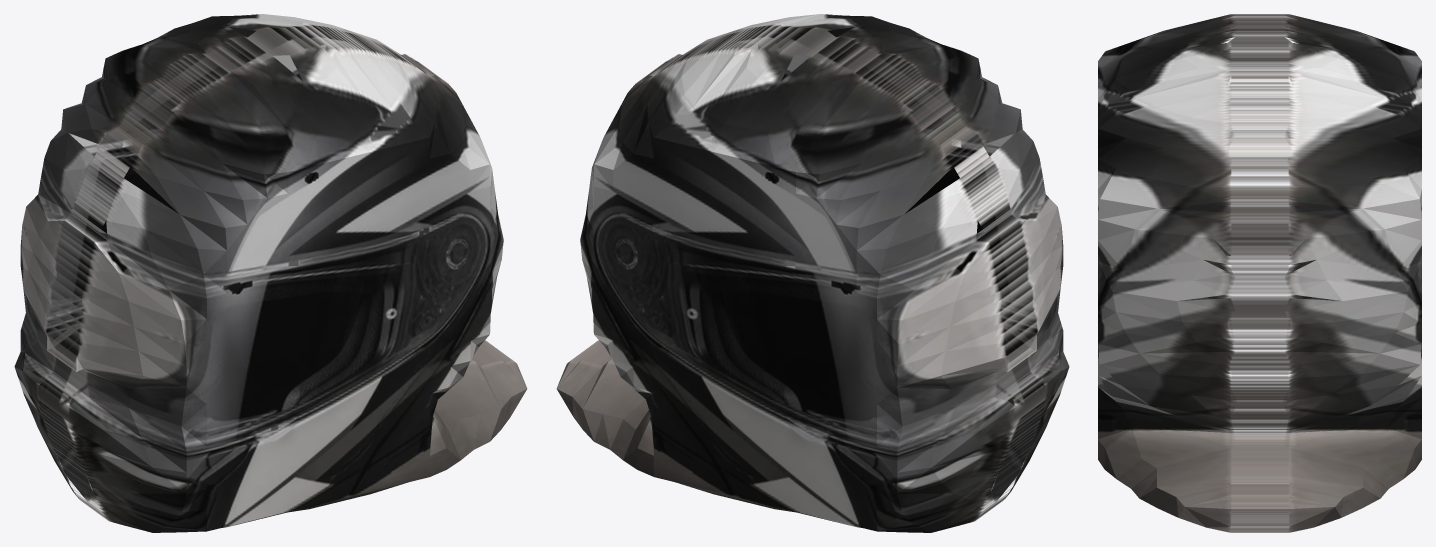
Rendered from bell-vantage-modular-helmet-058.glb.
3 views of the same model, side by side, from view 1: azimuth 30°, elevation 25°; view 2: azimuth 150°, elevation 25°; view 3: azimuth 270°, elevation 25° (orthographic). The views are drawn at different scales.
Visible parts, largest first — view 1: world; view 2: world; view 3: world.
Part boxes in pixels (box(x1,y1,x2,y2)): world: box(14, 14, 527, 532); world: box(556, 14, 1069, 532); world: box(1098, 14, 1421, 532).
Size of the model in its own units: 1 by 0.9307 by 0.64.
1 material, 1 textured.
